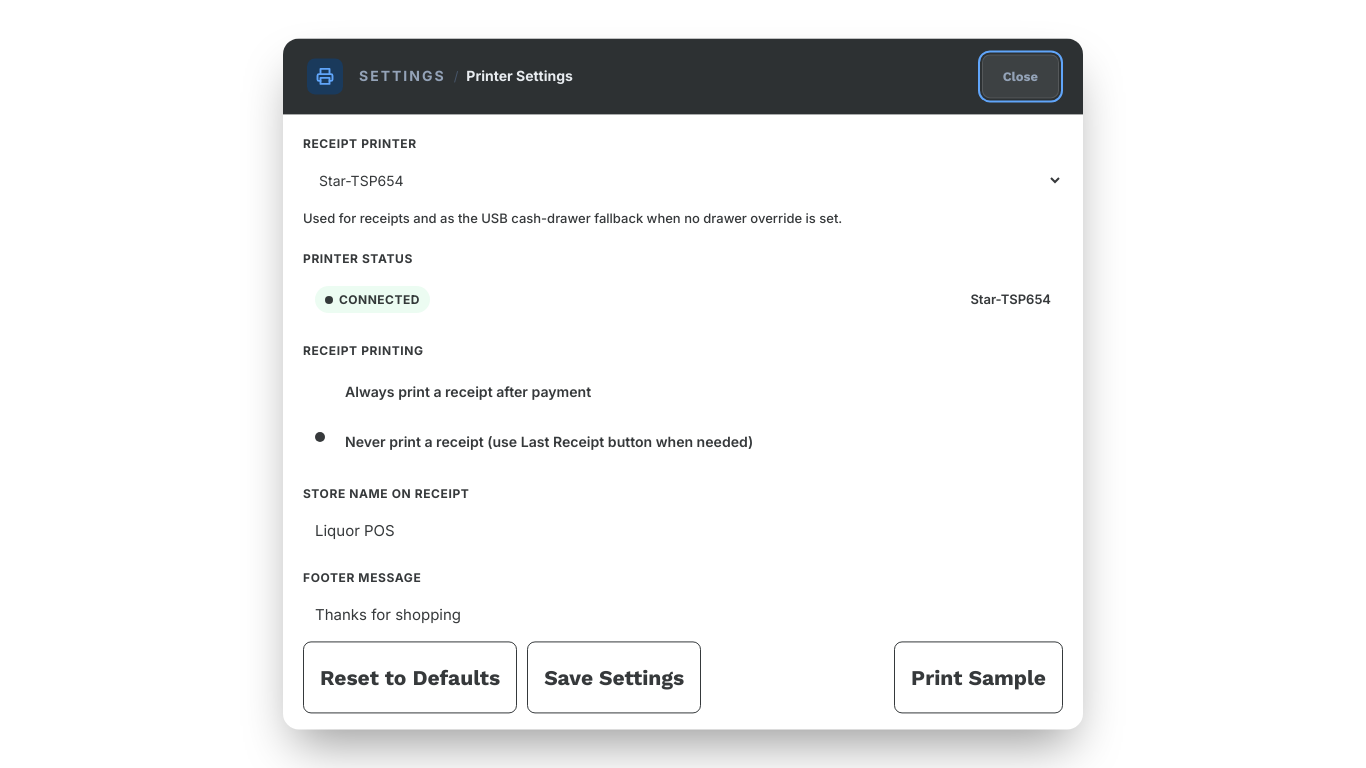
Scenario: PrinterSettingsModal › saves settings and shows success modal
The image size is (1366, 768).
Step 1. Replace the text in the field with placeholder "Leave blank to use merchant name" below "Store Name on Receipt" with "Saved Store" → (683, 531), box [303,513,1063,548]
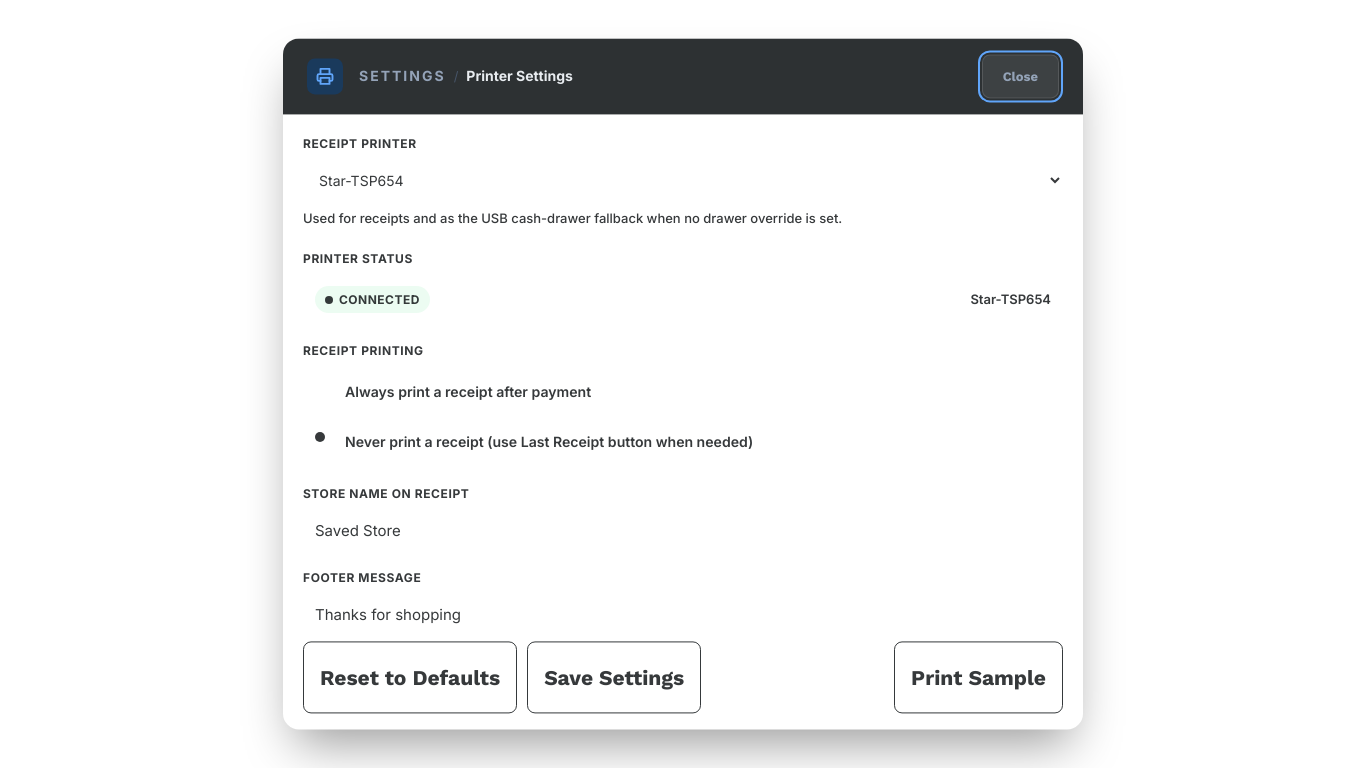
Step 2. Select "Office-Printer" in the dropdown named "Receipt Printer" → (683, 181), box [303,164,1063,199]
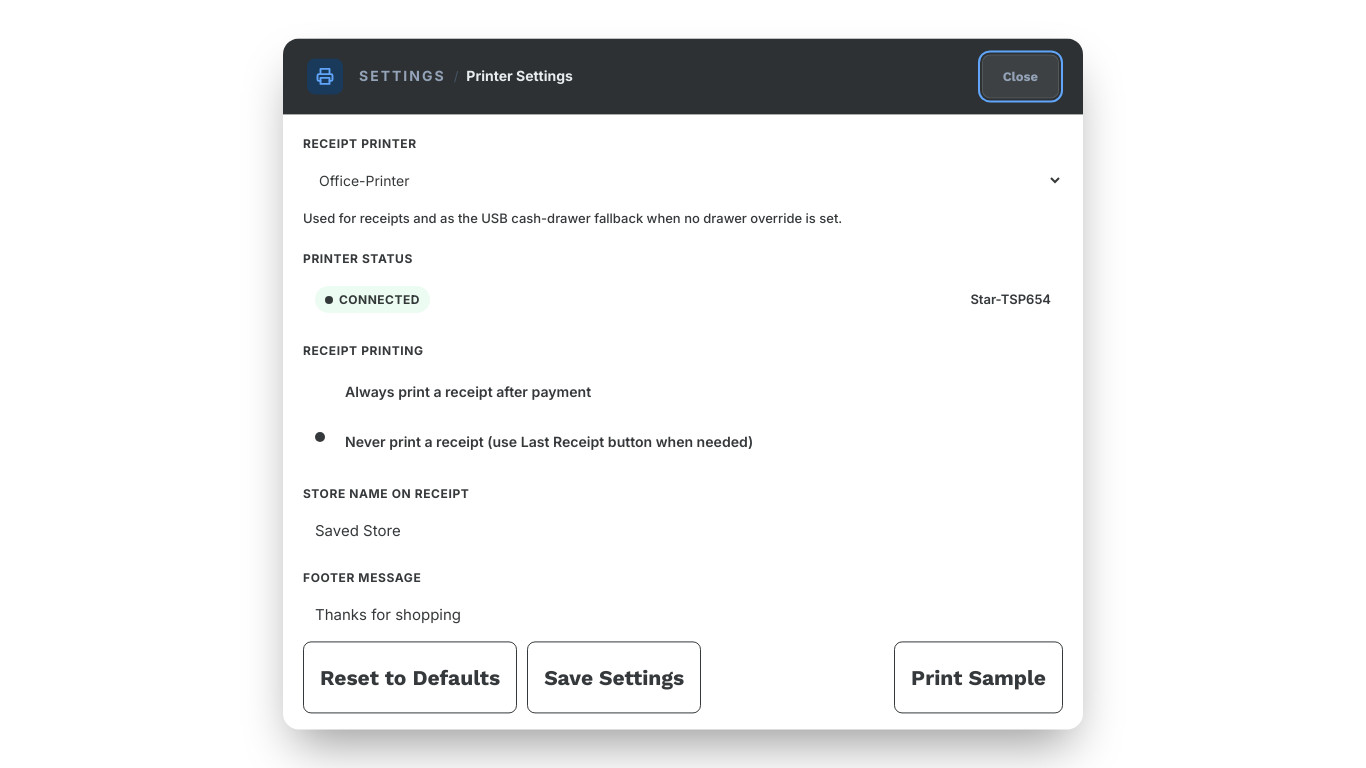
Step 3. Click the button "Save Settings" → (614, 678), box [527,642,701,714]
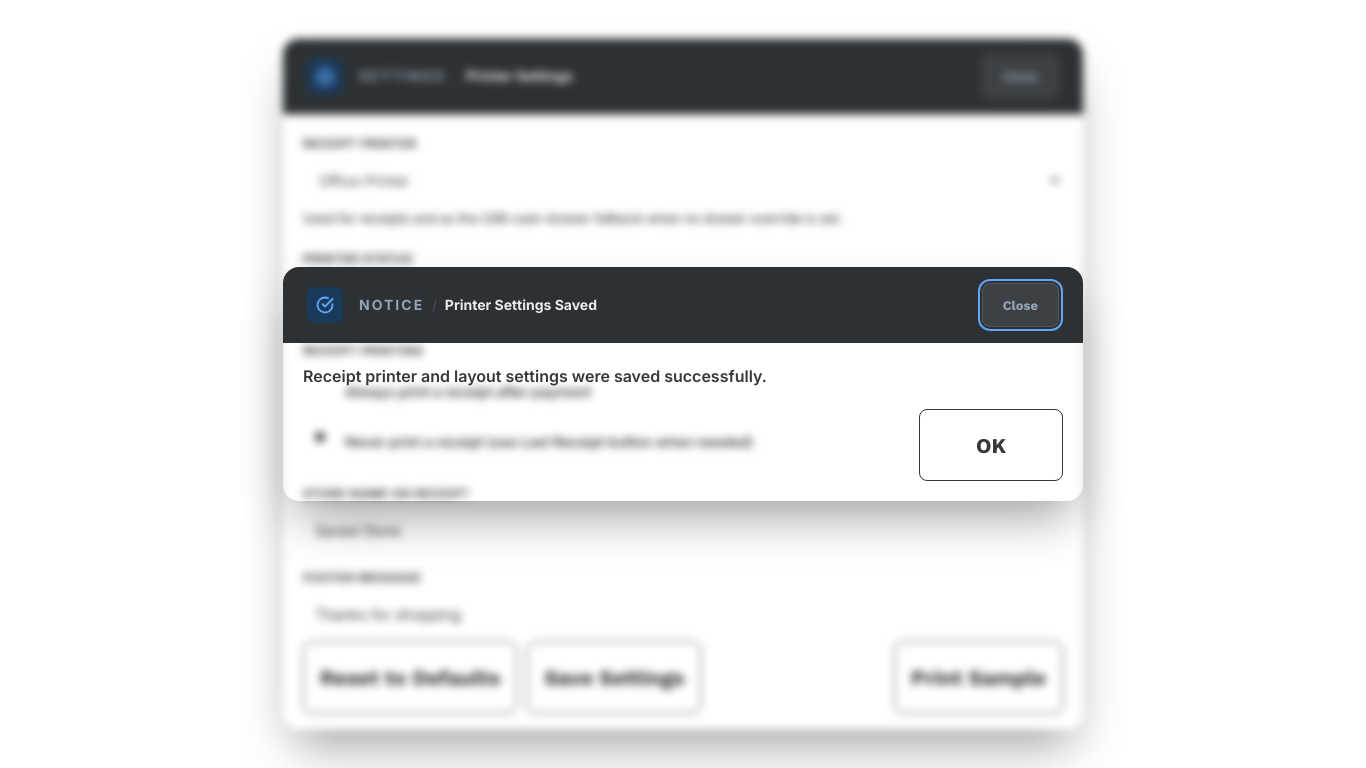
Check: the text "Printer Settings Saved" is shown, box [445,294,597,316]
